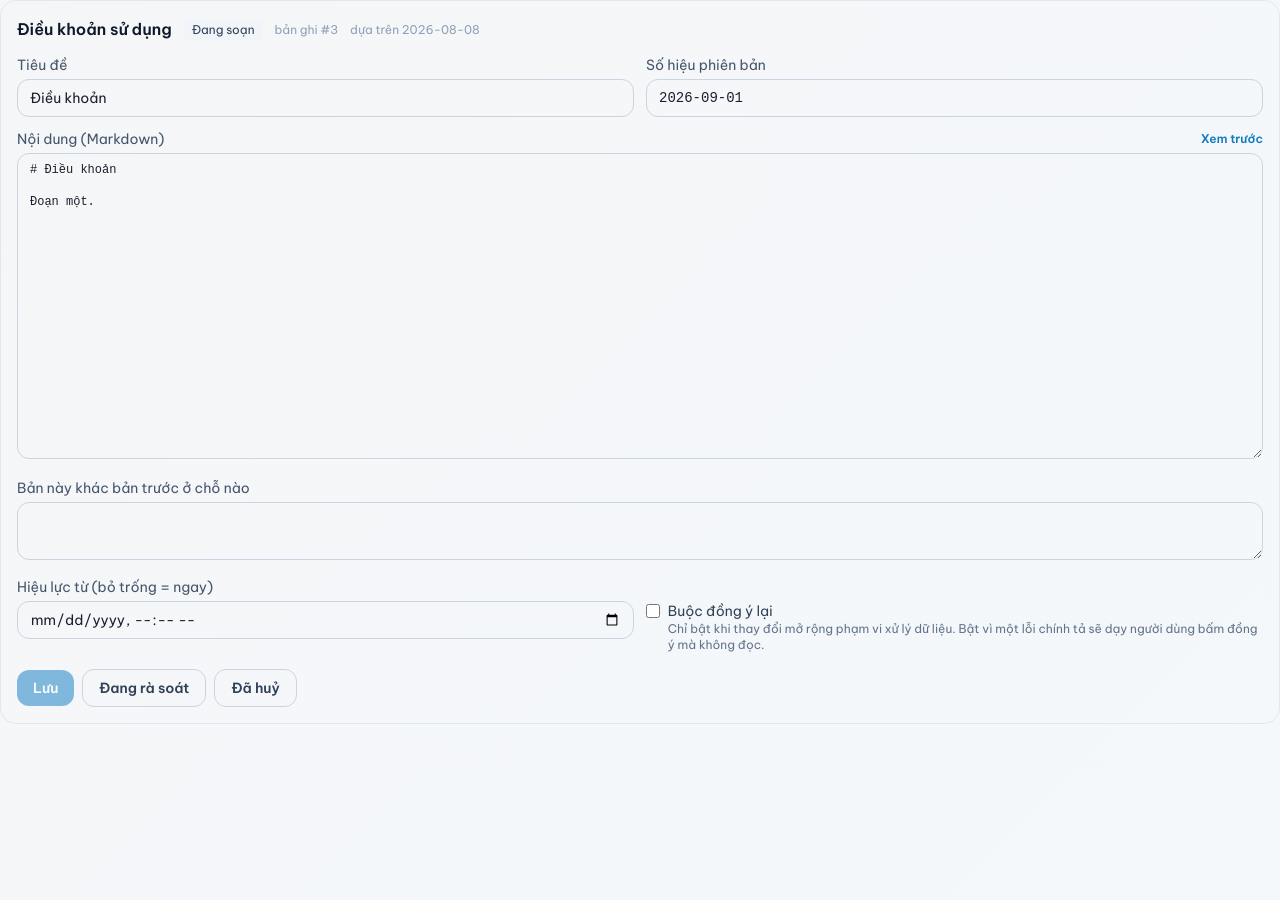
it: DraftEditor — xung đột ghi › không tự trộn hai bản — nói rõ đó là việc của con người
The image size is (1280, 900).
Replace the text in the text box named "Nội dung" with "# Bài của tôi" at (640, 306), box [17, 153, 1263, 459]
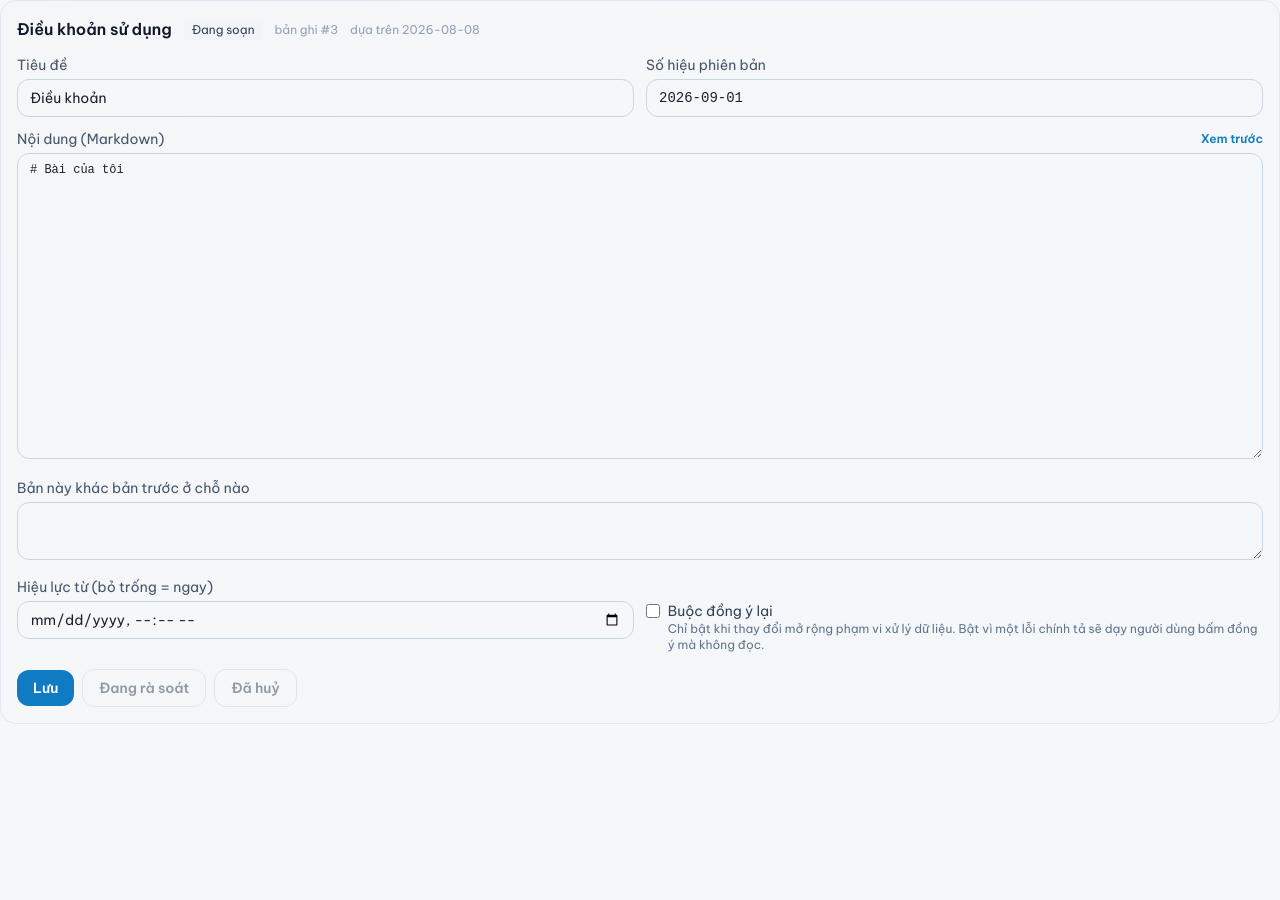
Click the button "Lưu" at (46, 688), box [17, 670, 74, 706]
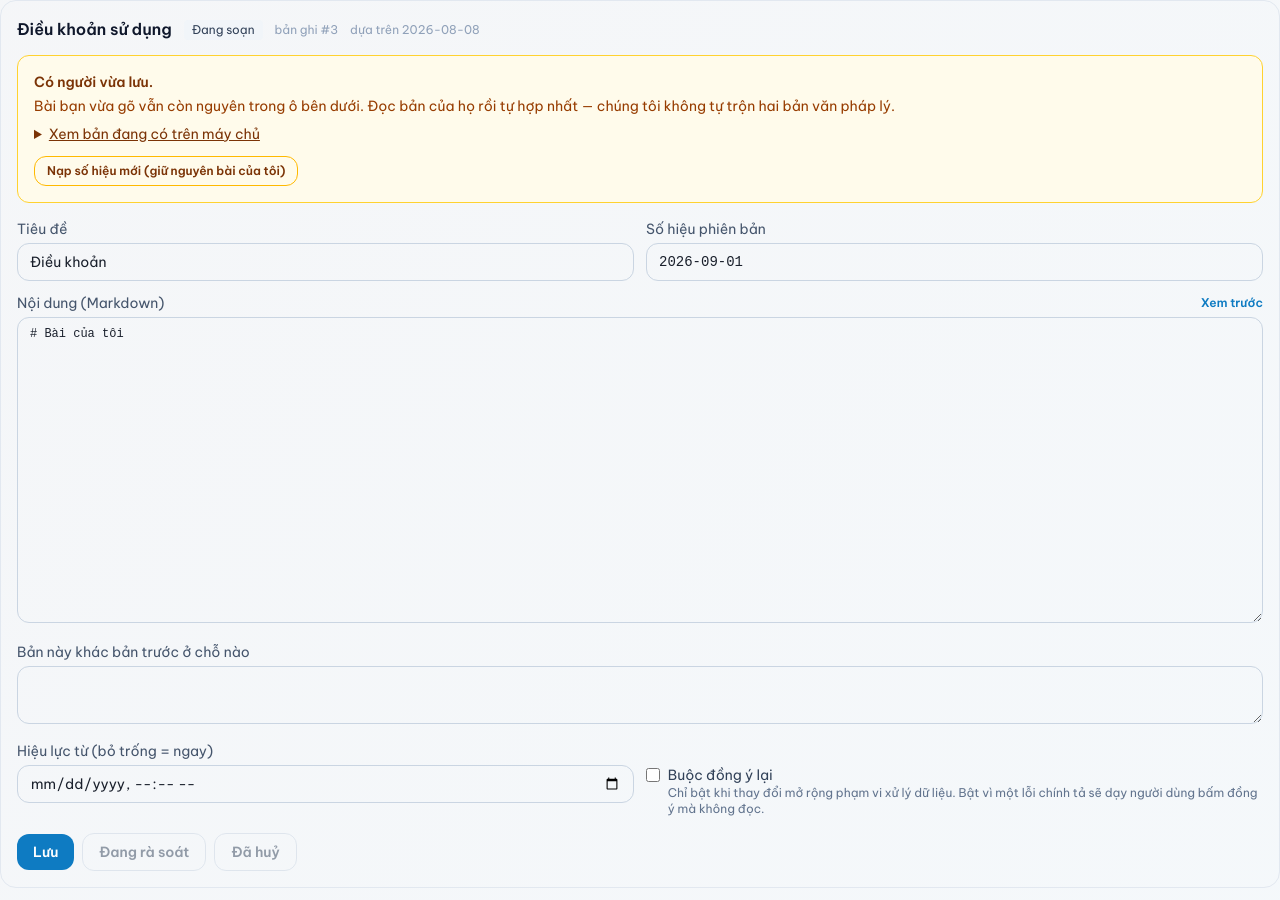
Expected: the text "không tự trộn hai bản văn pháp lý" is shown, [34, 97, 895, 115]
